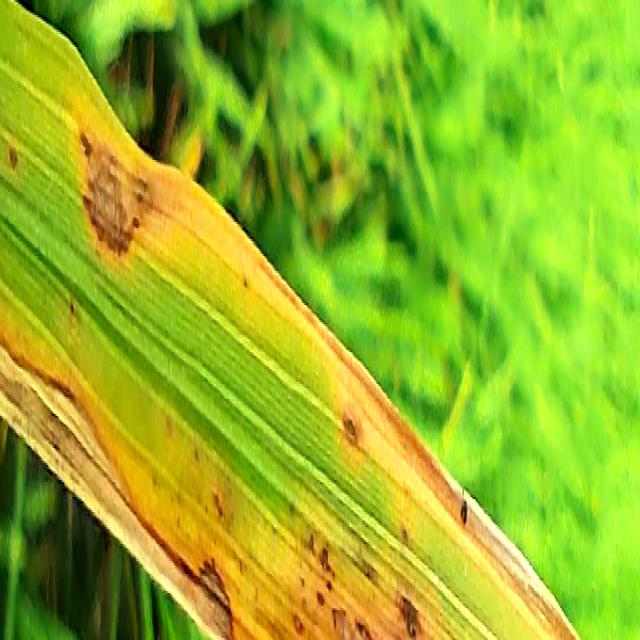LEAF BLAST: (0, 339, 236, 640), (81, 134, 153, 254), (328, 597, 383, 640)
